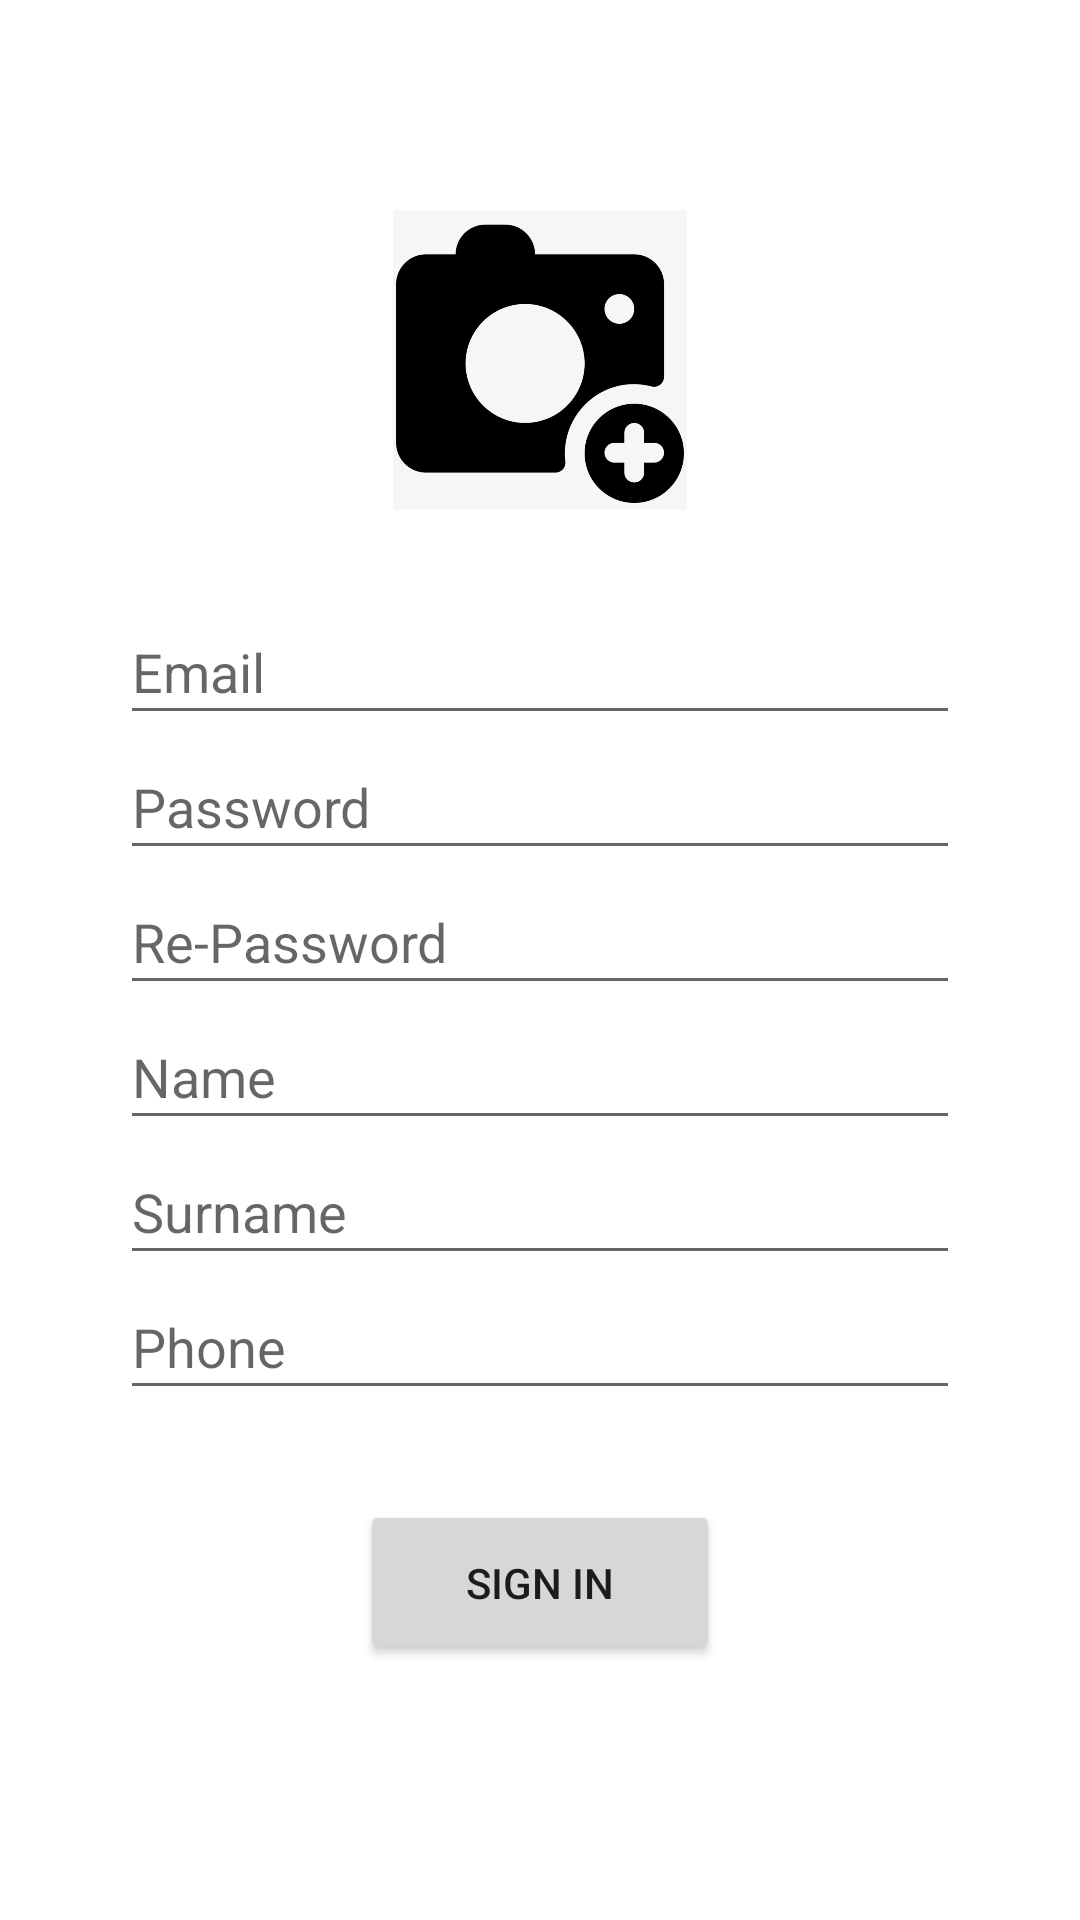

Named icons in this screenshot (1080px×1920px) and their bounding boxes, {"x1": x1, "y1": y1, "x2": x2, "y2": y2}:
photo: {"x1": 396, "y1": 224, "x2": 684, "y2": 503}
